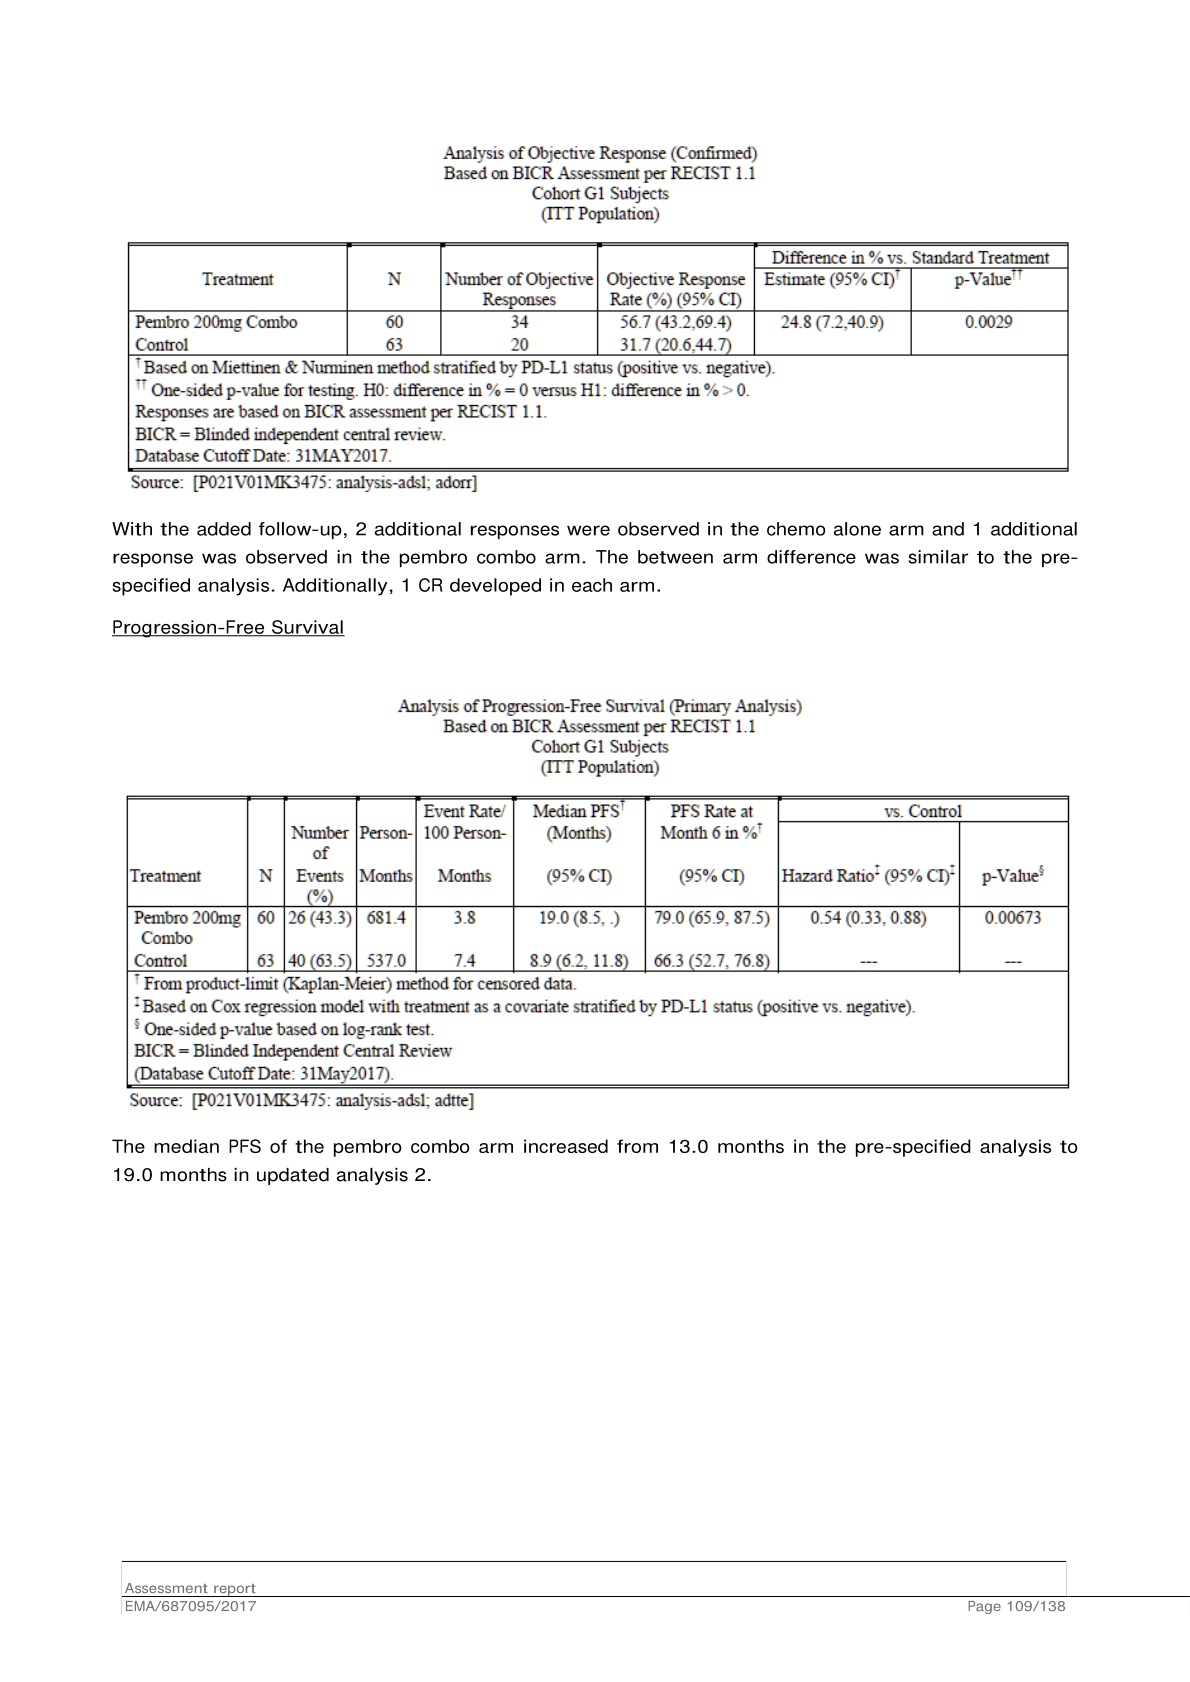merged_cells: (125, 795, 1070, 1090), (127, 240, 1070, 473)
